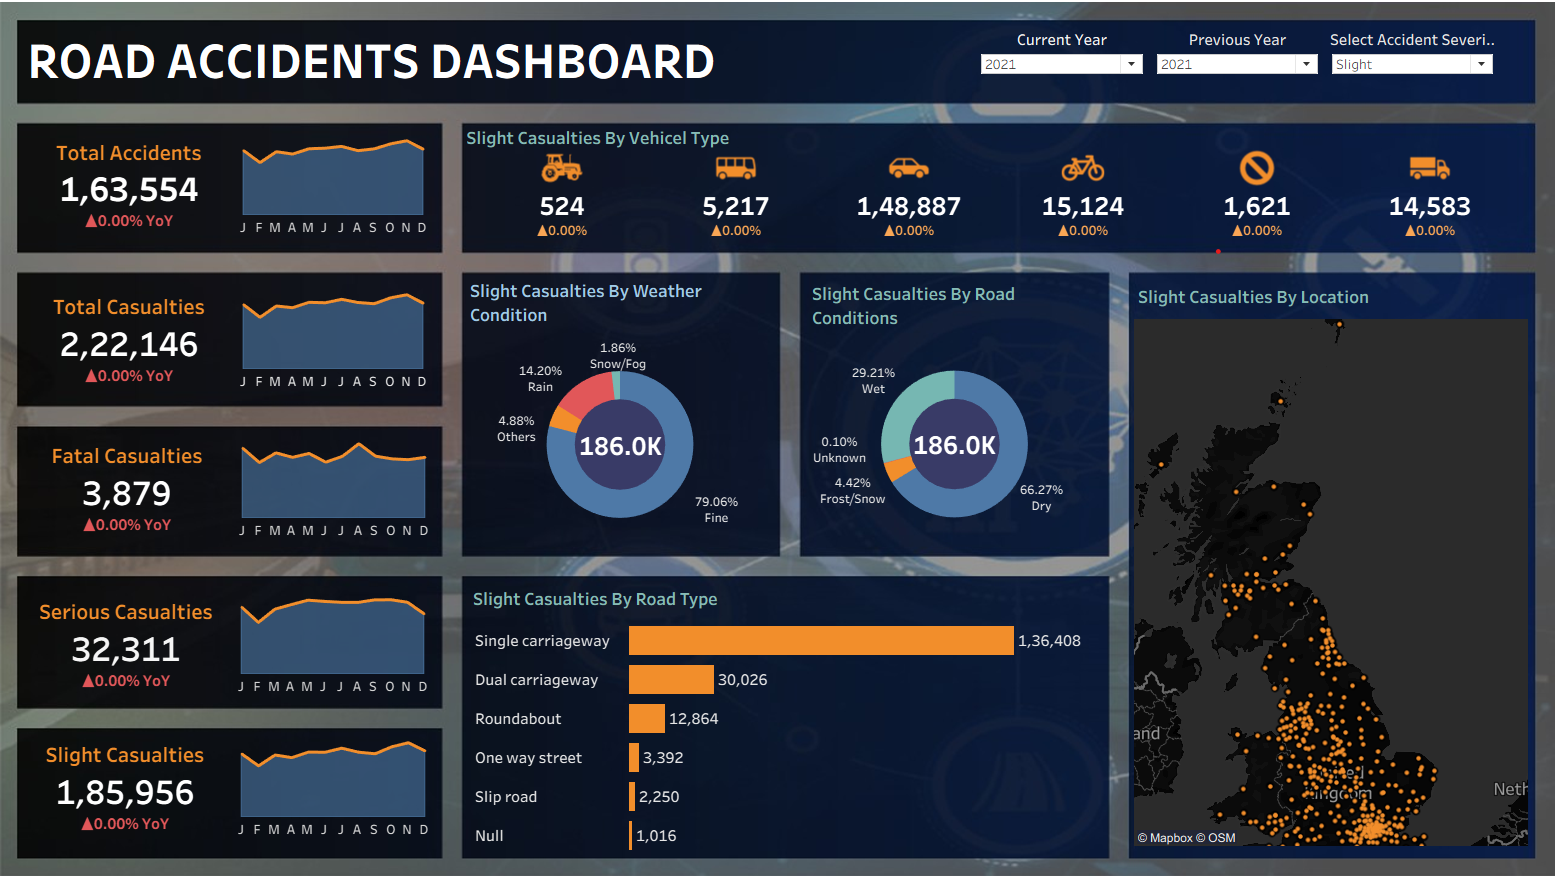

The dashboard page shown, as its layout file describes it:
{"tool":"tableau","page":{"name":"Dashboard 1","canvas":[1600,900],"ordinal":0},"visuals":[{"type":"image","param":"C:/Users/Adithya P Ghodke/Downloads/Background.jpg","box":[8,8,1584,884]},{"type":"parameter","param":"[Parameters].[Parameter 1]","box":[996,35,176,71]},{"type":"parameter","param":"[Parameters].[Current Year (copy)_6351648900636673]","box":[1172,35,175,71]},{"type":"parameter","param":"[Parameters].[Parameter 2]","box":[1347,35,175,71]},{"type":"text","box":[46,43,713,52]},{"type":"text","box":[485,132,463,30]},{"type":"worksheet","title":"Total Accidents","mark":"Automatic","box":[48,141,205,110]},{"type":"worksheet","title":"Accident Sparkline","mark":"Automatic","rows":["CY Accidents (copy)_6351648902676483","Calculation_6351648901115906"],"cols":["Accident Date"],"box":[253,141,204,110]},{"type":"worksheet","title":"VechileType images","mark":"Shape","box":[493,156,1050,40]},{"type":"worksheet","title":"Vehicle Type KPI","mark":"Automatic","box":[493,196,1050,60]},{"type":"worksheet","title":"Weather Conditions","mark":"Pie","rows":["Calculation_4086930154708993","Calculation_4086930154733571"],"box":[488,284,308,278]},{"type":"worksheet","title":"Road Surface","mark":"Pie","rows":["Calculation_4086930154708993","Calculation_4086930154733571"],"box":[830,287,293,271]},{"type":"worksheet","title":"By Location","mark":"Automatic","rows":["Latitude"],"cols":["Longitude"],"box":[1156,290,394,566]},{"type":"worksheet","title":"Total Casualties","mark":"Automatic","box":[48,295,205,110]},{"type":"worksheet","title":"Total Casualties Sparkline","mark":"Automatic","rows":["CY Casualties (copy)_6351648927350790","Calculation_6351648926285829"],"cols":["Accident Date"],"box":[253,295,204,110]},{"type":"worksheet","title":"Fatal Casualties","mark":"Automatic","box":[45,444,207,110]},{"type":"worksheet","title":"Fatal Casualties Sparkline","mark":"Automatic","rows":["CY Fatal Casualties (copy)_6351648931528713","Calculation_6351648930705416"],"cols":["Accident Date"],"box":[252,444,207,110]},{"type":"worksheet","title":"Road Type","mark":"Automatic","rows":["Road_Type"],"cols":["Calculation_6351648926285829"],"box":[491,592,635,273]},{"type":"worksheet","title":"Serious Casualties","mark":"Automatic","box":[44,600,207,110]},{"type":"worksheet","title":"Serious Casualties Sparkline","mark":"Automatic","rows":["PY Fatal Casualties (copy)_6351648932577293","CY Fatal Casualties (copy)_6351648932409356"],"cols":["Accident Date"],"box":[251,600,207,110]},{"type":"worksheet","title":"Slight Casualties","mark":"Automatic","box":[43,743,208,110]},{"type":"worksheet","title":"Slight Casualties Sparkline","mark":"Automatic","rows":["PY Serious Casualties (copy)_6351648933781520","CY Serious Casualties (copy)_6351648933572623"],"cols":["Accident Date"],"box":[251,743,208,110]}]}

Visuals, with their boxes in screenshot pixels (x1, y1, x2, y2), scaled from the page's 1600x900 canvas onto the 1555x876 screenshot:
image: 8,8,1547,868
parameter: 968,34,1139,103
parameter: 1139,34,1309,103
parameter: 1309,34,1479,103
text: 45,42,738,92
text: 471,128,921,158
"Total Accidents" worksheet: 47,137,246,244
"Accident Sparkline" worksheet: 246,137,444,244
"VechileType images" worksheet (Shape marks): 479,152,1500,191
"Vehicle Type KPI" worksheet: 479,191,1500,249
"Weather Conditions" worksheet (Pie marks): 474,276,774,547
"Road Surface" worksheet (Pie marks): 807,279,1091,543
"By Location" worksheet: 1123,282,1506,833
"Total Casualties" worksheet: 47,287,246,394
"Total Casualties Sparkline" worksheet: 246,287,444,394
"Fatal Casualties" worksheet: 44,432,245,539
"Fatal Casualties Sparkline" worksheet: 245,432,446,539
"Road Type" worksheet: 477,576,1094,842
"Serious Casualties" worksheet: 43,584,244,691
"Serious Casualties Sparkline" worksheet: 244,584,445,691
"Slight Casualties" worksheet: 42,723,244,830
"Slight Casualties Sparkline" worksheet: 244,723,446,830
